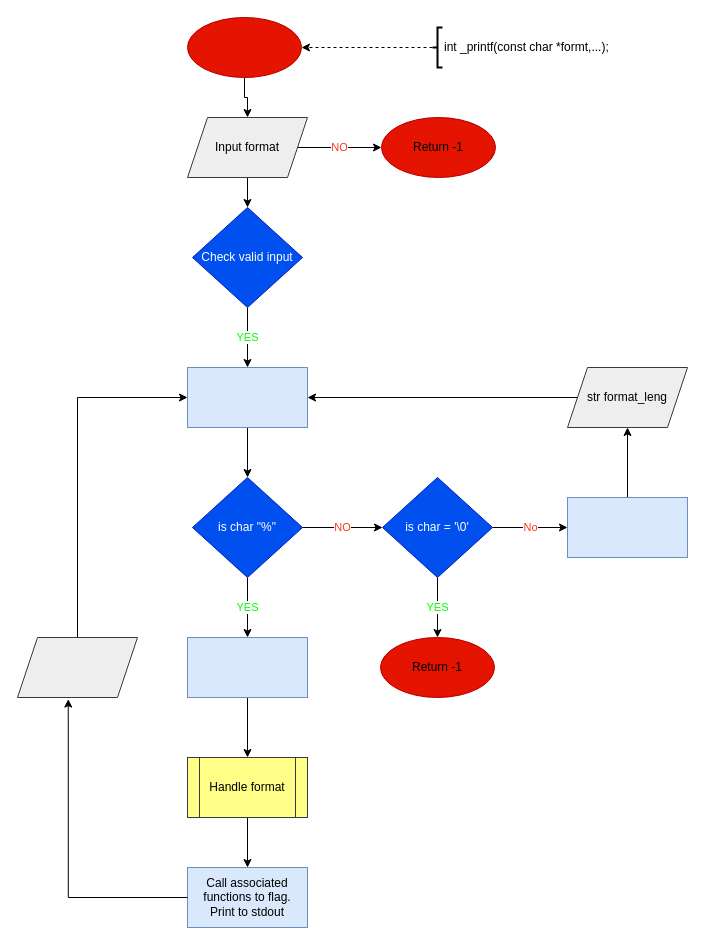
Some shapes in this 705 by 945 pixel diagram are drawn without their labels. Here are the shapes that lost their labels. From the top down, the box of each, then its label:
(186, 16, 302, 78): Start Printf
(186, 366, 308, 428): Loop over input
(566, 496, 688, 558): Print char
(16, 636, 138, 698): Leng argument
(186, 636, 308, 698): Compare next char
